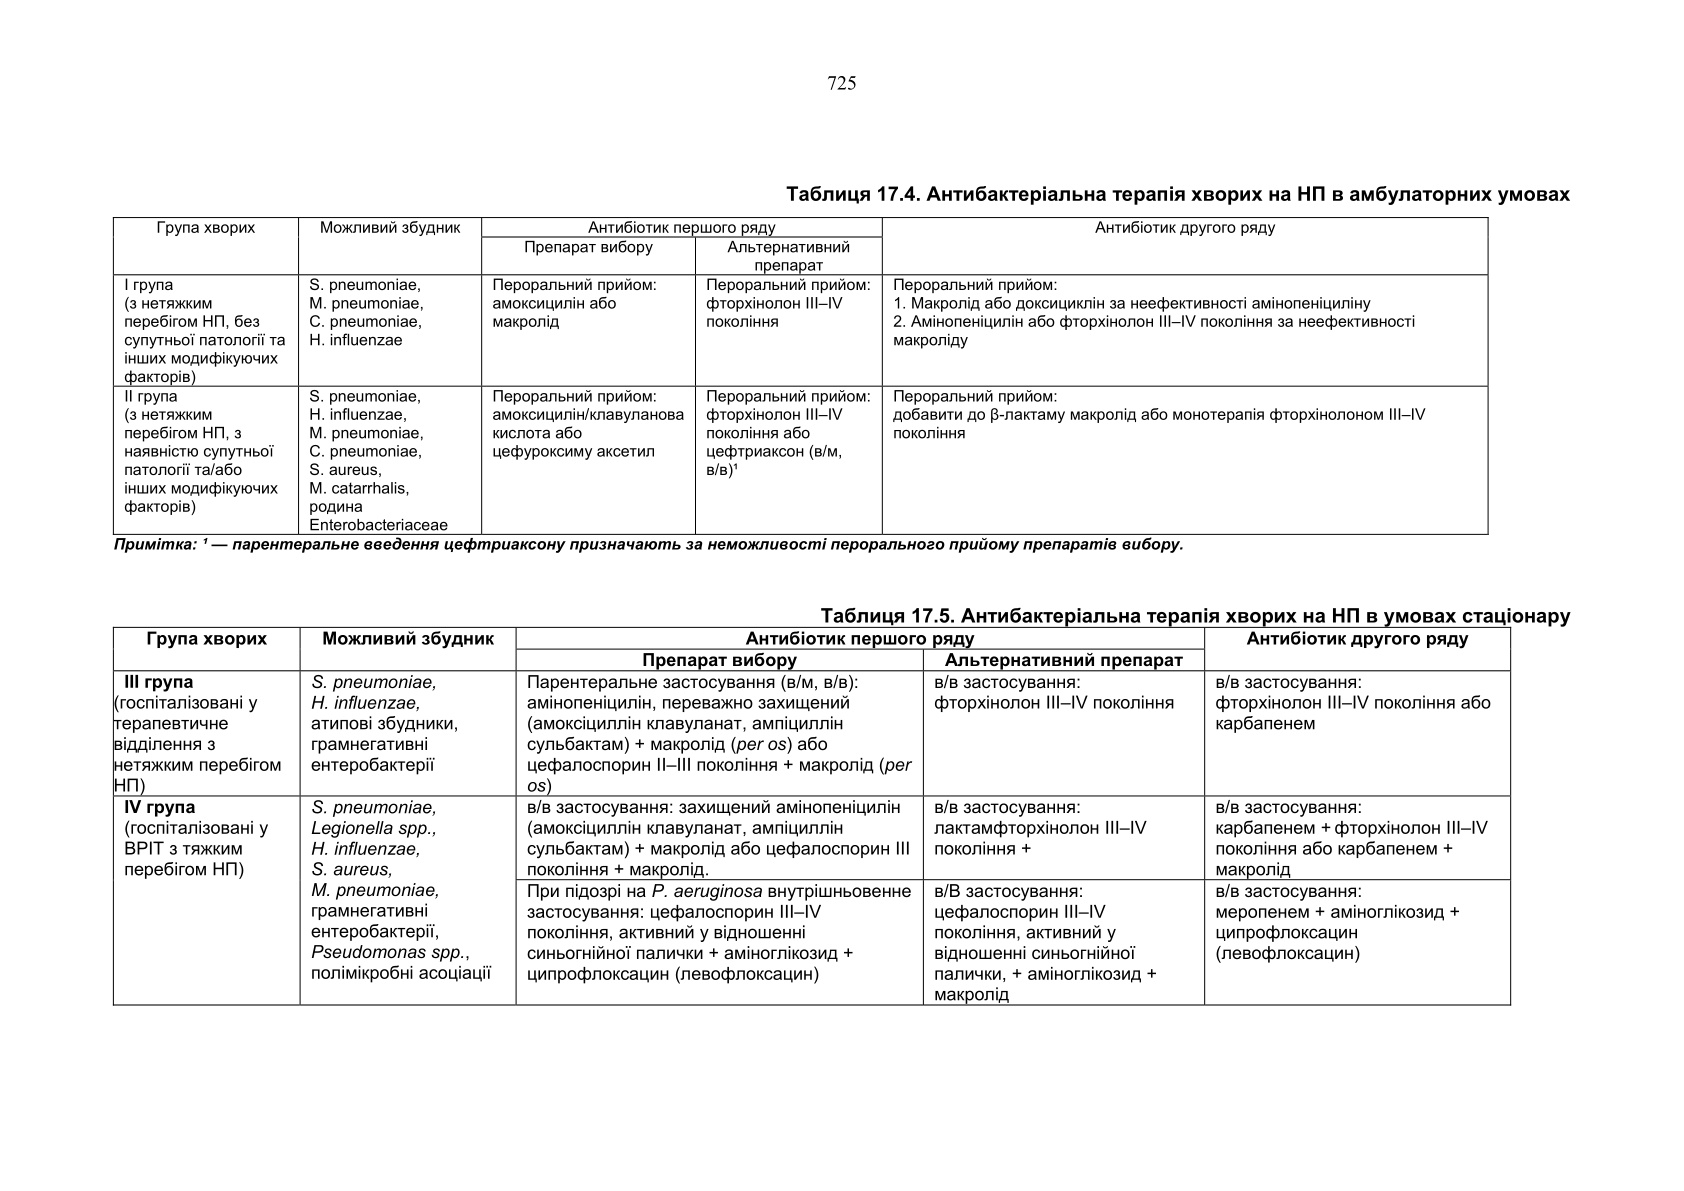merged_cells: (112, 626, 1513, 1007), (112, 217, 1489, 536)
